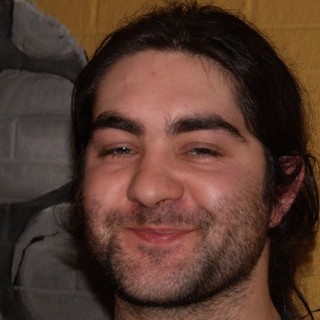eye: (174, 139, 229, 165), (97, 140, 141, 162)
